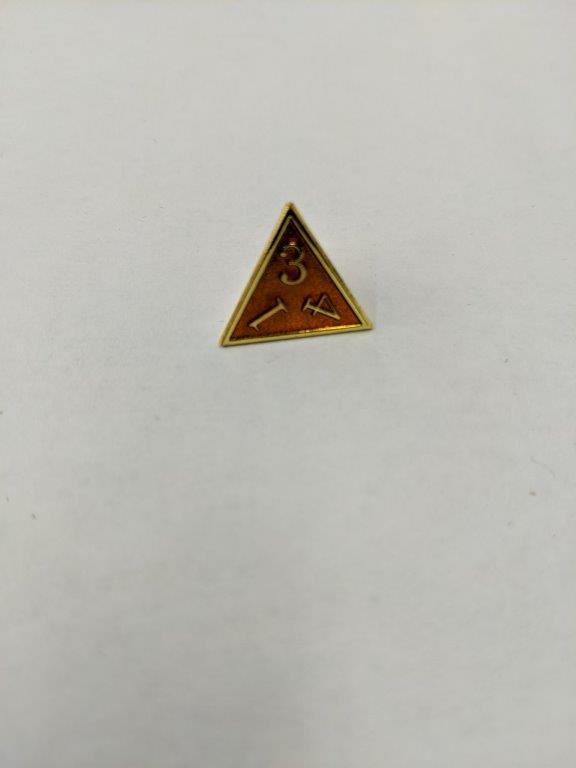d4-3: (212, 193, 372, 354)
